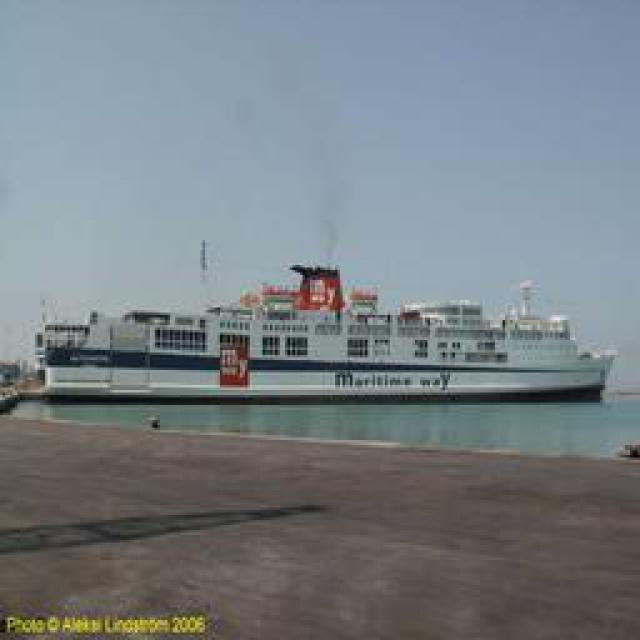Ship: (26, 254, 619, 404)
